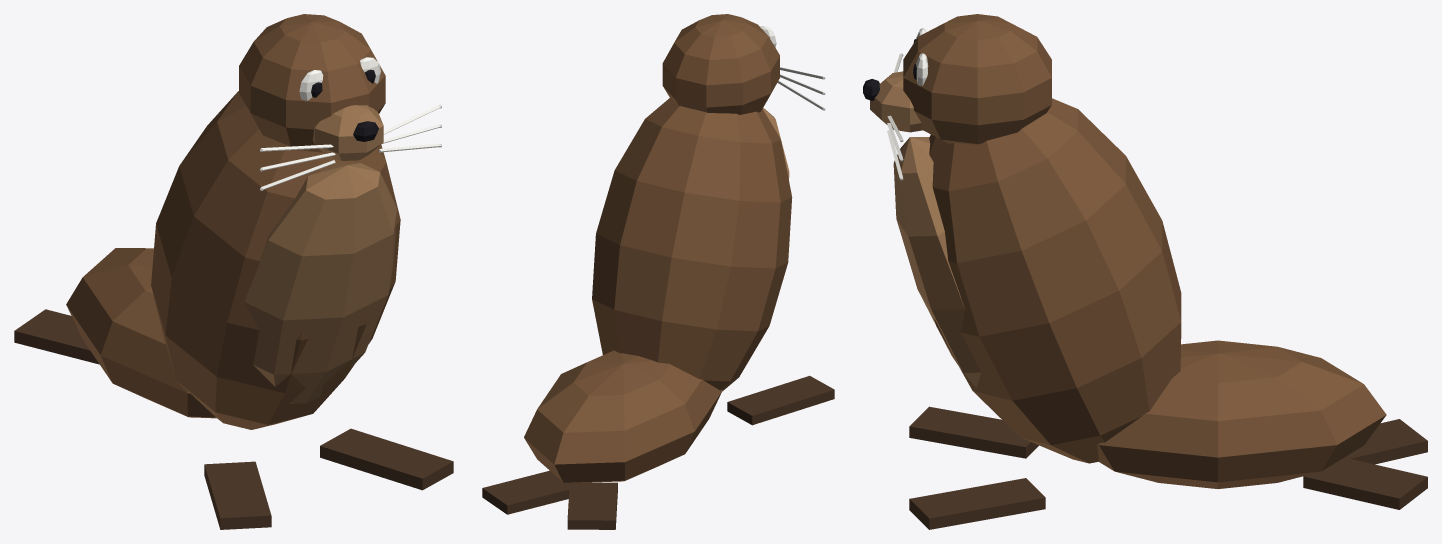
Rendered from sea_lion_bigotes.glb.
3 views of the same model, side by side, from view 1: azimuth 30°, elevation 25°; view 2: azimuth 150°, elevation 25°; view 3: azimuth 270°, elevation 25° (orthographic). The views are drawn at different scales.
Parts seen in each view (by area): view 1: body_sealion_fur, body_sealion_belly, head_sealion_fur, flippers_sealion_dark, head_sealion_belly, whiskers_white, face_white; view 2: body_sealion_fur, head_sealion_fur, flippers_sealion_dark, whiskers_white; view 3: body_sealion_fur, head_sealion_fur, flippers_sealion_dark, body_sealion_belly, head_sealion_belly.
Boxes of the visible parts, x1,y1,x2,y2 form: body_sealion_fur: (66,91,400,429); body_sealion_belly: (244,163,397,403); head_sealion_fur: (239,14,385,152); flippers_sealion_dark: (14,309,453,529); head_sealion_belly: (313,105,383,160); whiskers_white: (260,104,441,190); face_white: (299,57,380,100); body_sealion_fur: (524,97,792,482); head_sealion_fur: (662,14,779,114); flippers_sealion_dark: (482,375,834,529); whiskers_white: (777,67,825,110); body_sealion_fur: (929,98,1386,488); head_sealion_fur: (903,14,1051,144); flippers_sealion_dark: (909,406,1427,529); body_sealion_belly: (893,137,981,387); head_sealion_belly: (870,71,922,132).
Bounding box in the file's own units: 0.6274 × 1.19 × 1.34.
